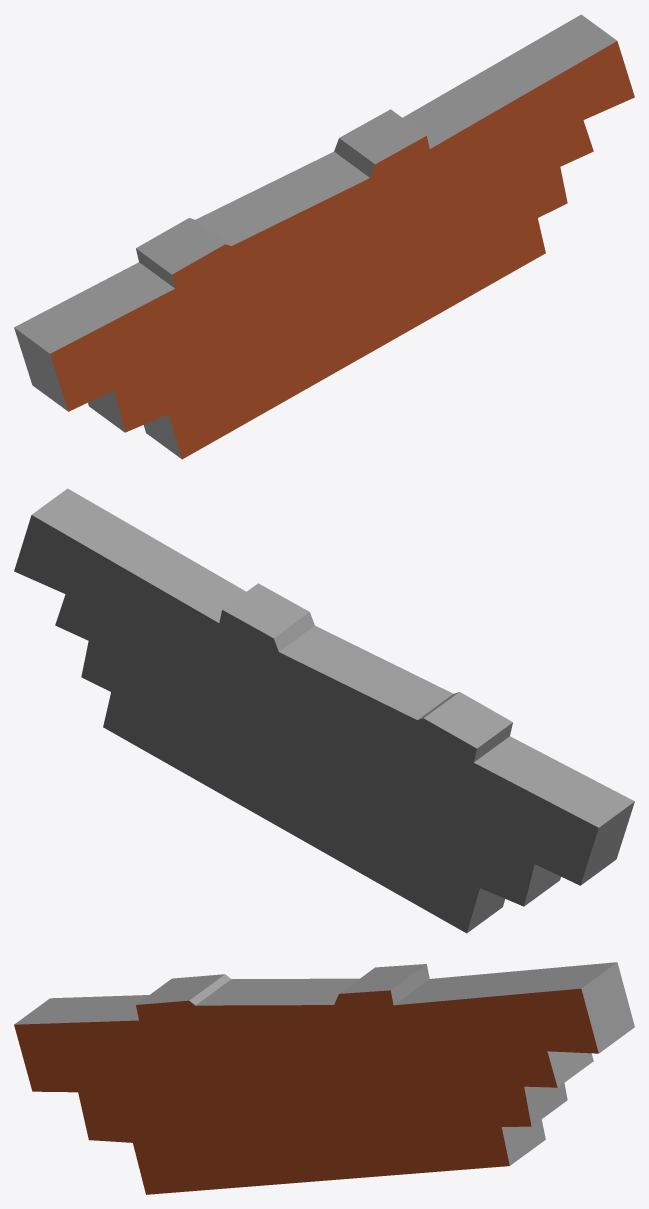
File: construction_0826_assumed_A_Casa_h6m.obj
3 views of the same model, one above another, from view 1: azimuth 30°, elevation 25°; view 2: azimuth 150°, elevation 25°; view 3: azimuth 330°, elevation 25° (orthographic).
Parts seen in each view (by area): view 1: construction_0826_assumed_A_Casa; view 2: construction_0826_assumed_A_Casa; view 3: construction_0826_assumed_A_Casa.
Boxes of the visible parts, x1,y1,x2,y2 form: construction_0826_assumed_A_Casa: (14, 14, 634, 459); construction_0826_assumed_A_Casa: (14, 488, 634, 933); construction_0826_assumed_A_Casa: (14, 962, 634, 1194).
Bounding box in the file's own units: 56.07 × 28.63 × 6.
